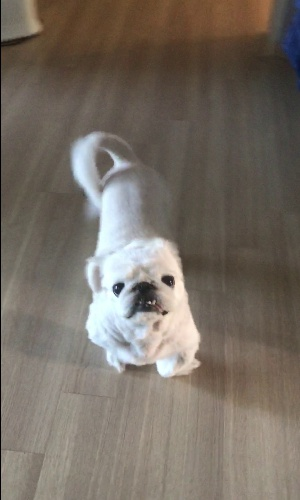ddubi: (66, 127, 207, 385)
